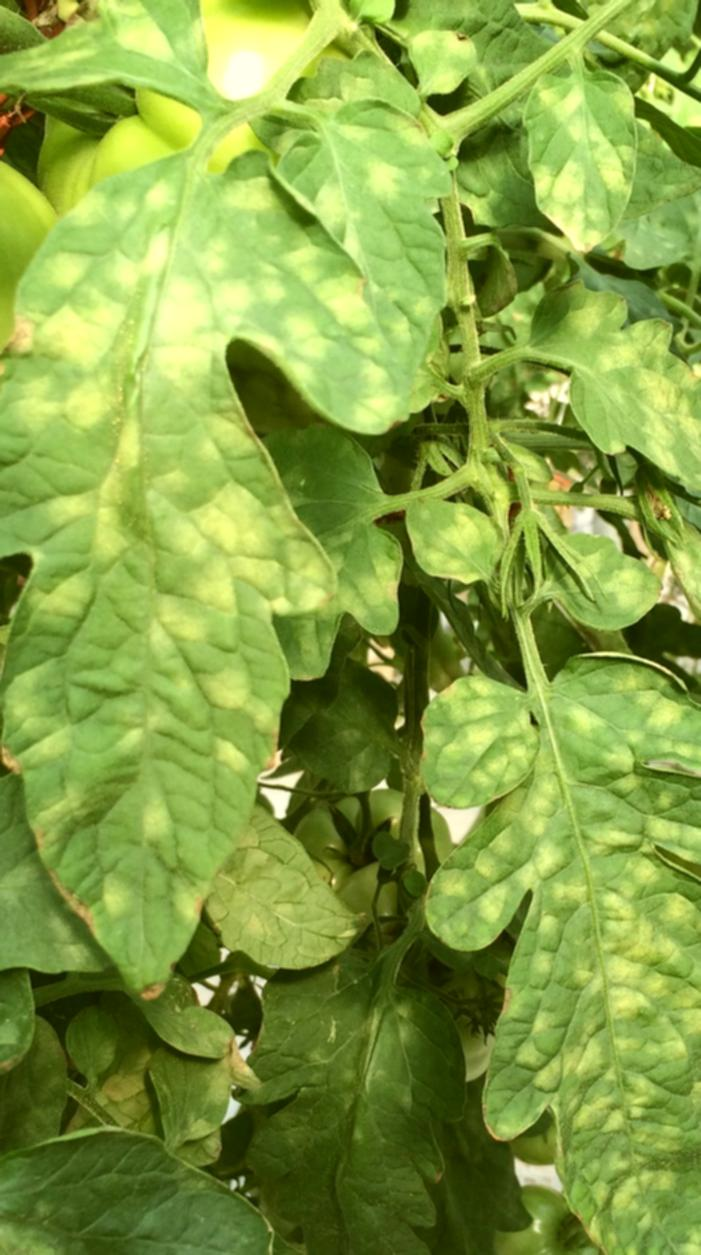Tomato mold leaf: (0, 158, 378, 991), (424, 650, 701, 1255), (490, 284, 701, 511), (260, 82, 453, 311), (192, 769, 359, 976), (0, 0, 208, 114), (527, 66, 642, 270), (397, 498, 508, 597), (561, 530, 667, 631)
